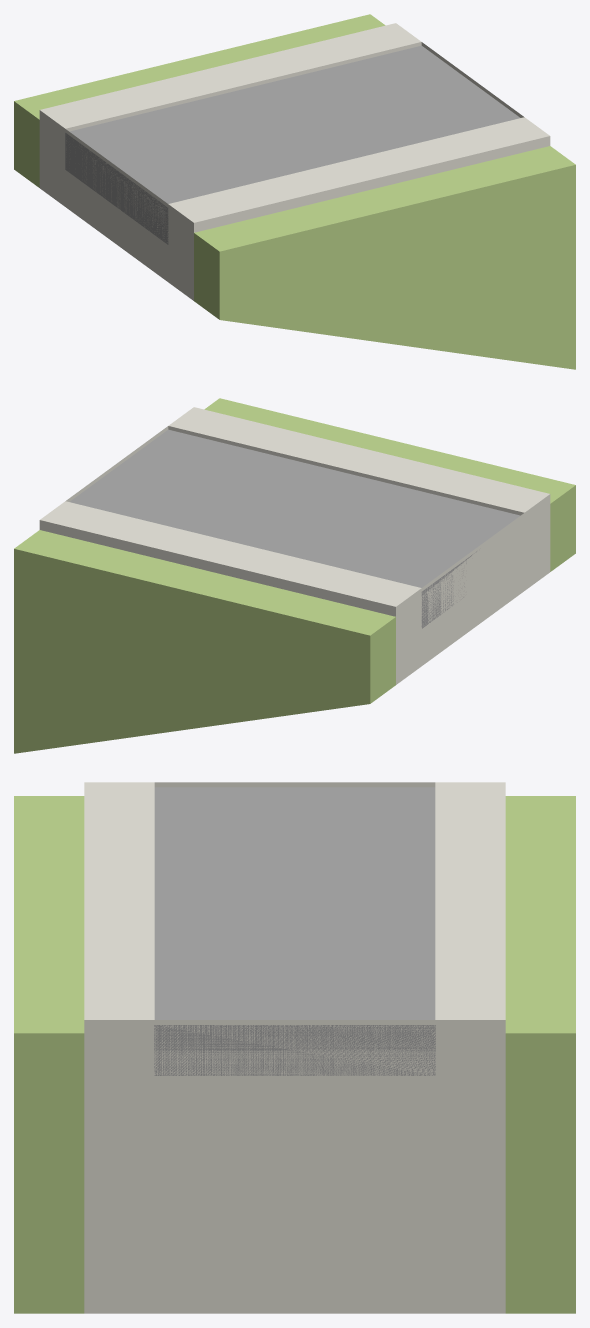
File: roadTile_164.glb
3 views of the same model, one above another, from view 1: azimuth 30°, elevation 25°; view 2: azimuth 150°, elevation 25°; view 3: azimuth 270°, elevation 25° (orthographic). The views are drawn at different scales.
Parts seen in each view (by area): view 1: Mesh1 Group1 Model; view 2: Mesh1 Group1 Model; view 3: Mesh1 Group1 Model.
Part boxes in pixels (left/top/right/bottom): Mesh1 Group1 Model: left=14, top=14, right=575, bottom=369; Mesh1 Group1 Model: left=14, top=398, right=575, bottom=753; Mesh1 Group1 Model: left=14, top=782, right=575, bottom=1313.
Bounding box in the file's own units: 3 × 1.73 × 3.
